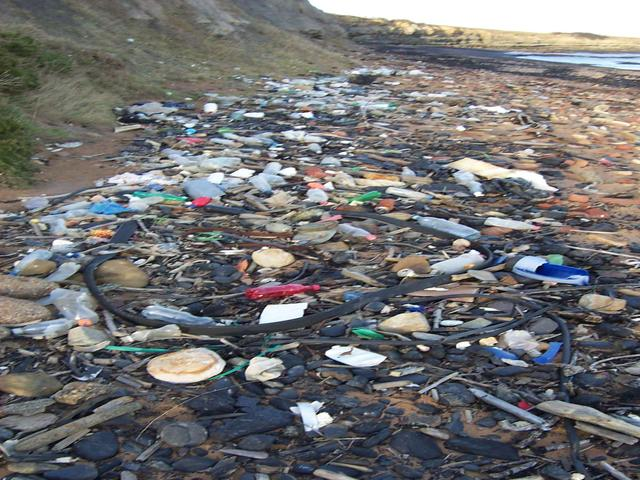garbage: (159, 104, 548, 458)
